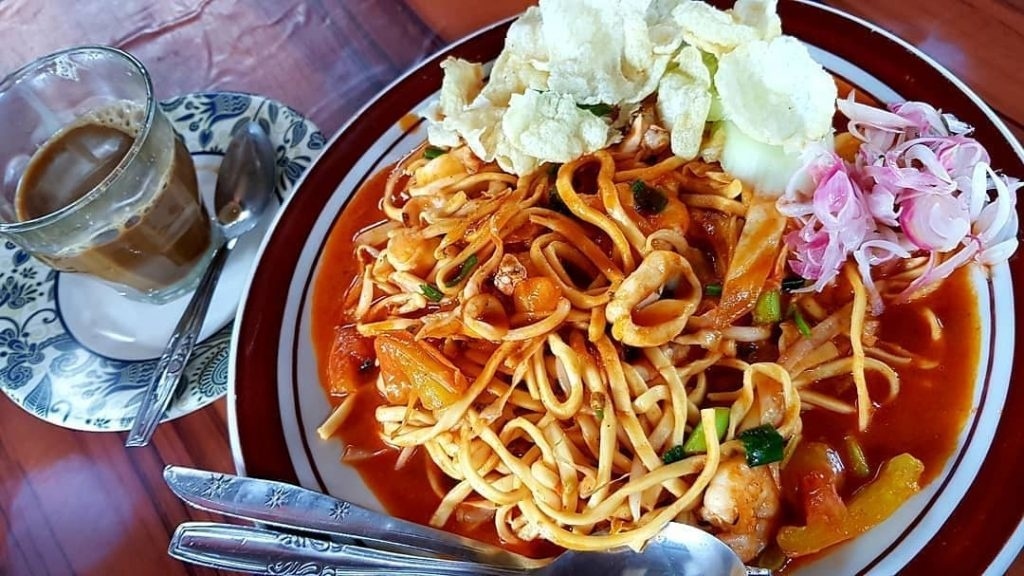mie_aceh: (323, 151, 853, 553)
